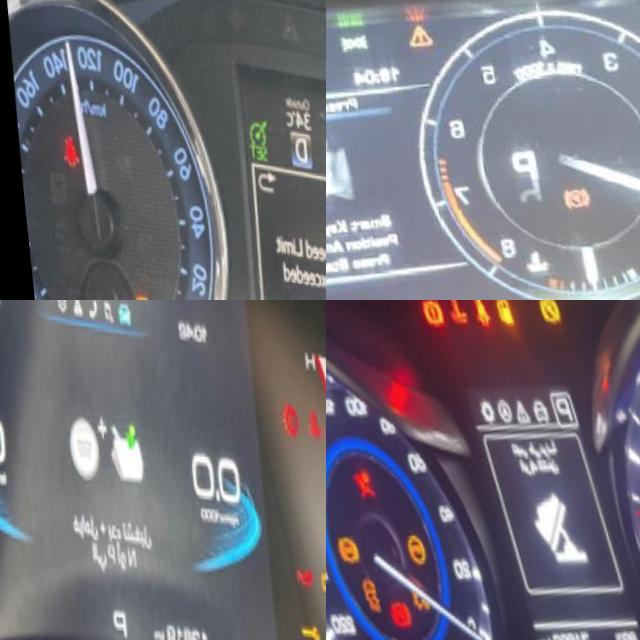Engine cooling system: (512, 235, 542, 267), (438, 300, 470, 327)
High Engine Coolant Temperature: (298, 393, 320, 432)
Low fuel level: (486, 300, 516, 326), (121, 285, 147, 300)
